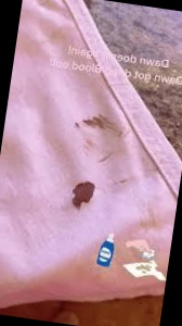blood: (67, 179, 99, 212)
